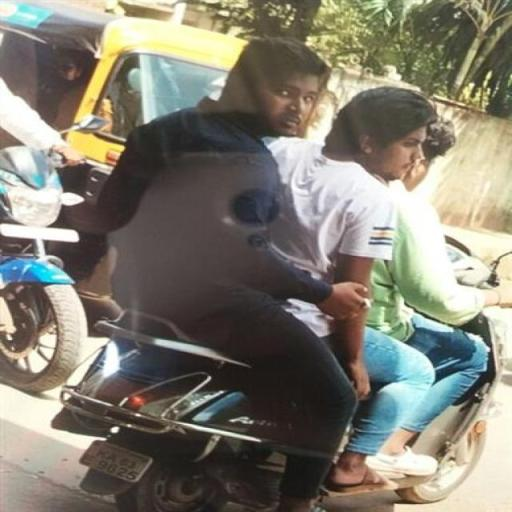tripple riding: (84, 36, 510, 338)
